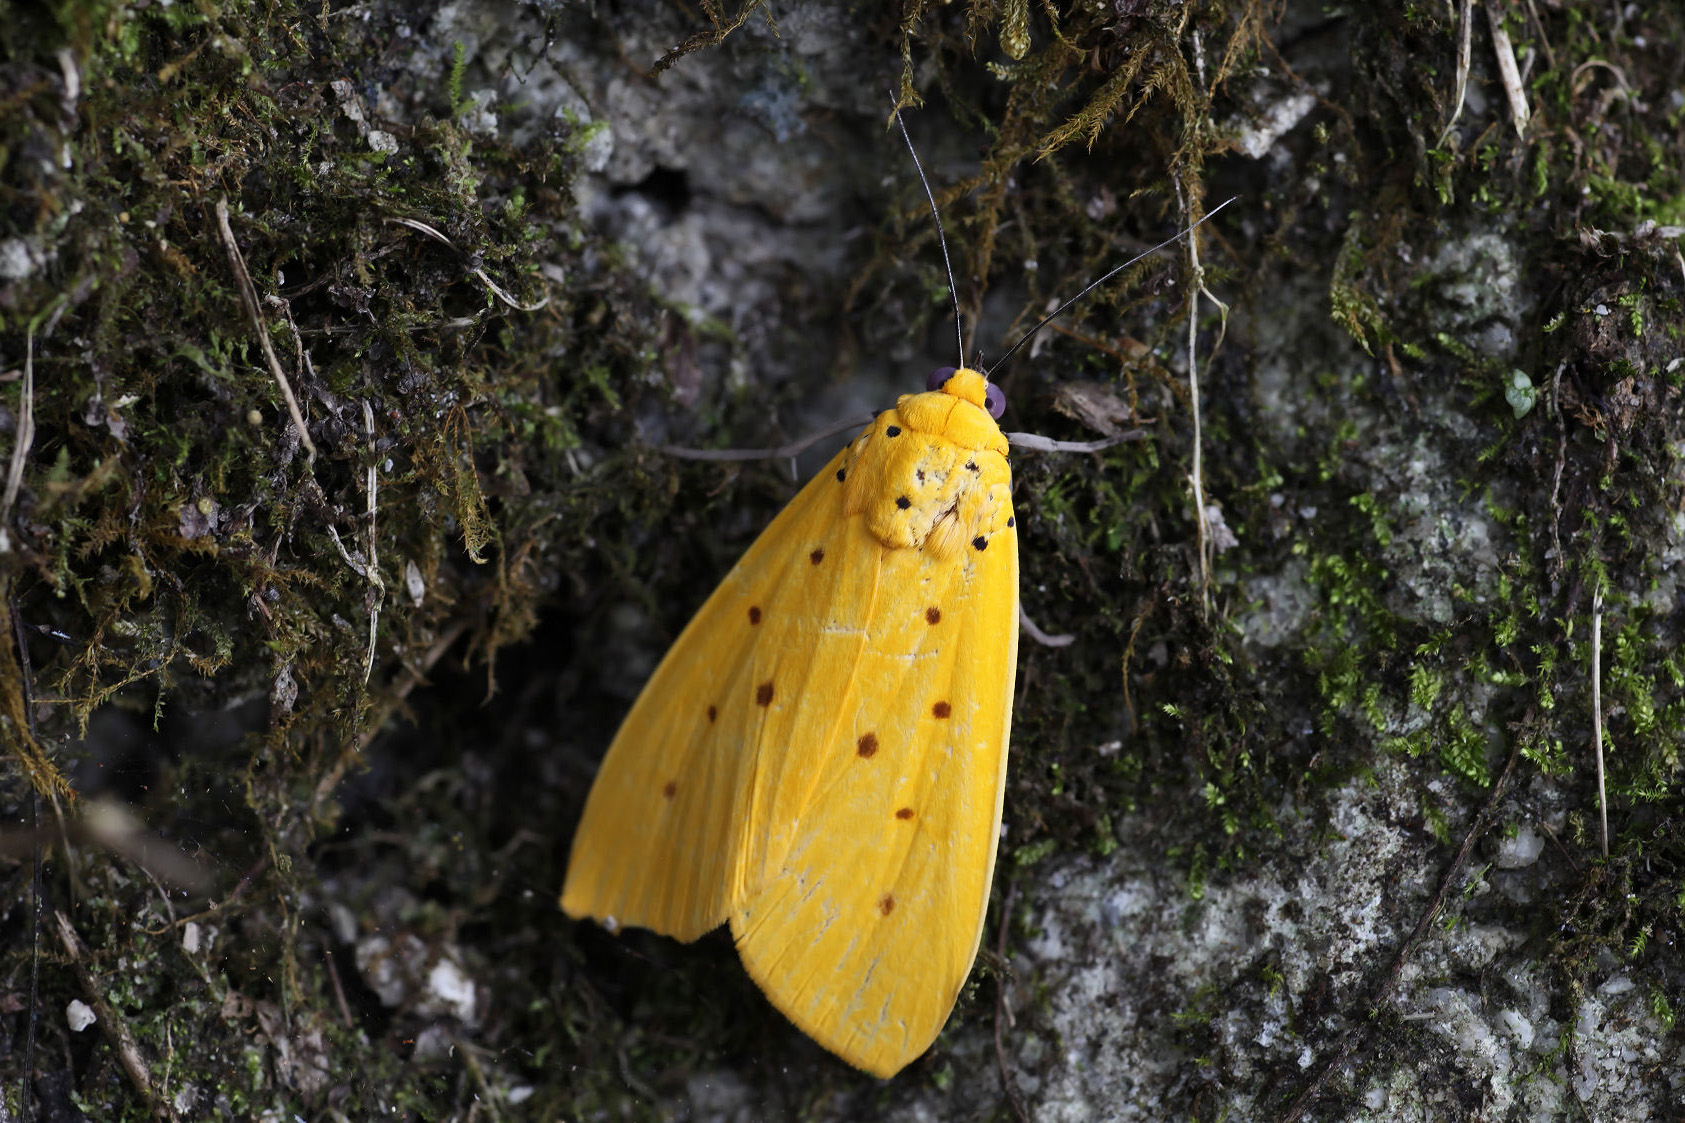Agape chloropyga: (547, 78, 1245, 1078)
moth: (545, 86, 1243, 1087)
